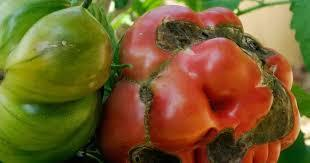tomato early blight: (103, 6, 302, 163)
